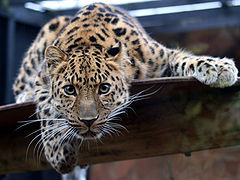amur_leopard: (25, 7, 178, 169)
